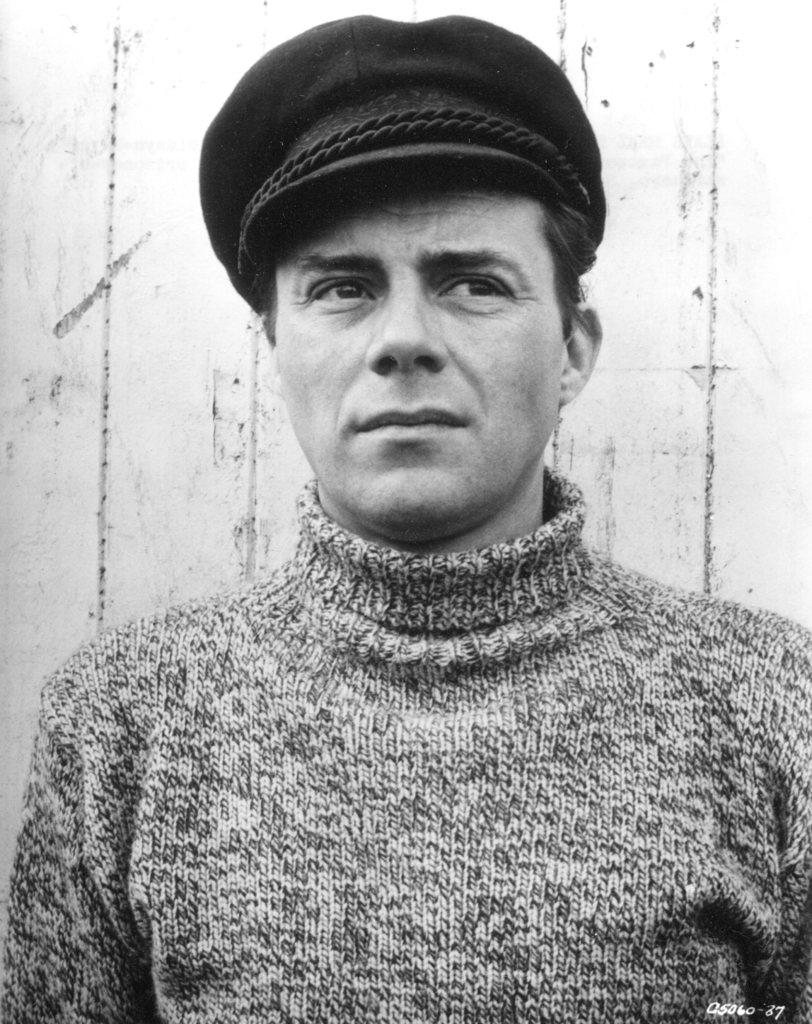Hat: (192, 10, 602, 310)
